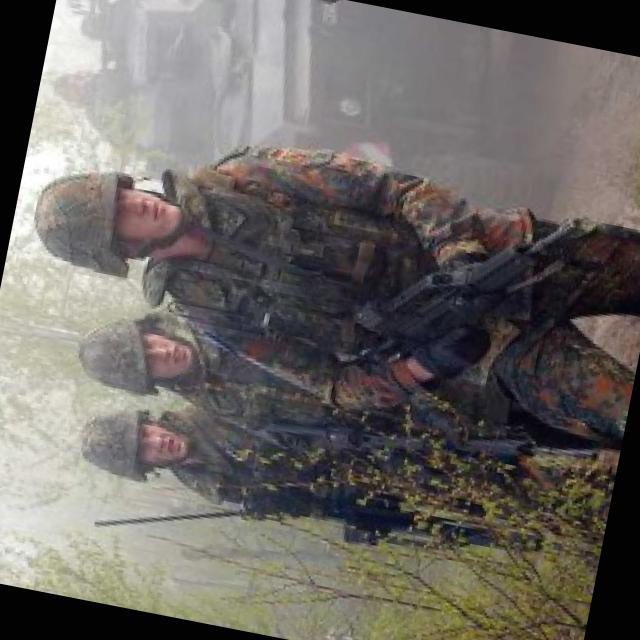long weapon: (350, 165, 590, 401), (266, 381, 619, 520)
